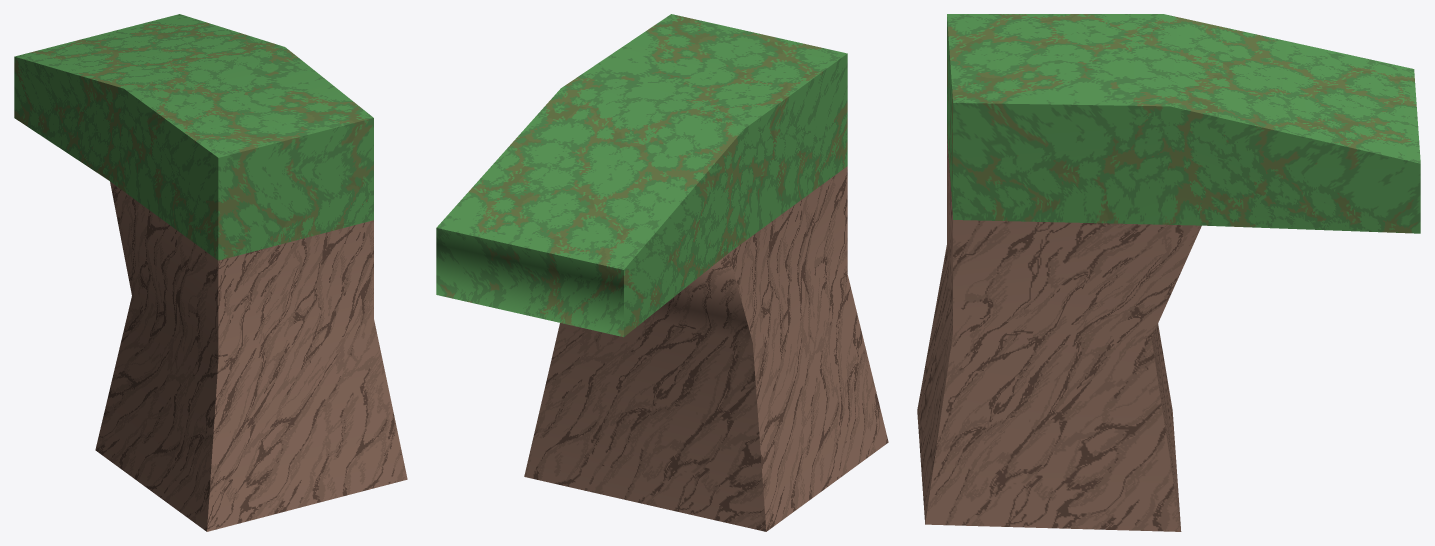
The model's file is Earth_BlockG.fbx.
The picture shows the model from 3 angles, left to right: view 1: azimuth 30°, elevation 25°; view 2: azimuth 150°, elevation 25°; view 3: azimuth 270°, elevation 25°; orthographic projection. The views are drawn at different scales.
Visible parts, largest first — view 1: Earth_BlockG; view 2: Earth_BlockG; view 3: Earth_BlockG.
Boxes of the visible parts, <box> form: Earth_BlockG: <box>14,14,407,531</box>; Earth_BlockG: <box>436,14,888,531</box>; Earth_BlockG: <box>917,14,1420,531</box>.
Size of the model in its own units: 817 by 1288 by 1432.
